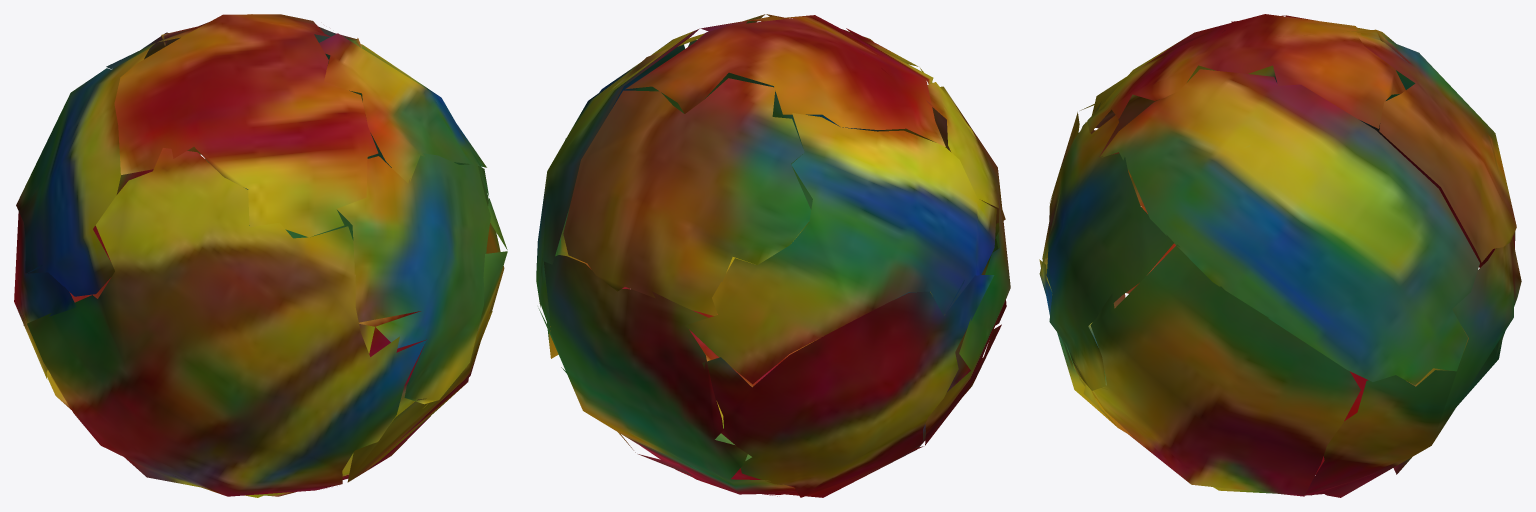
File: kinder_ball_lo.glb
3 renders of one model, left to right at view 1: azimuth 30°, elevation 25°; view 2: azimuth 150°, elevation 25°; view 3: azimuth 270°, elevation 25°, orthographic.
Visible parts, largest first — view 1: Prop; view 2: Prop; view 3: Prop.
Part boxes in pixels (bbox=[...]): Prop: bbox=[14, 14, 507, 497]; Prop: bbox=[536, 14, 1010, 497]; Prop: bbox=[1039, 14, 1521, 497].
Bounding box in the file's own units: 1 × 1.03 × 0.9971.
1 material, 1 textured.
